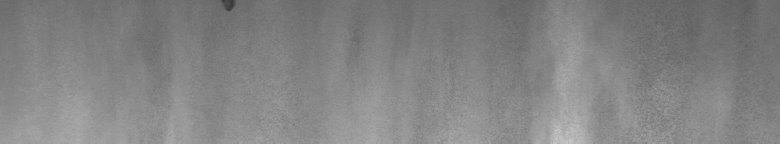fi: (221, 4, 237, 16)
